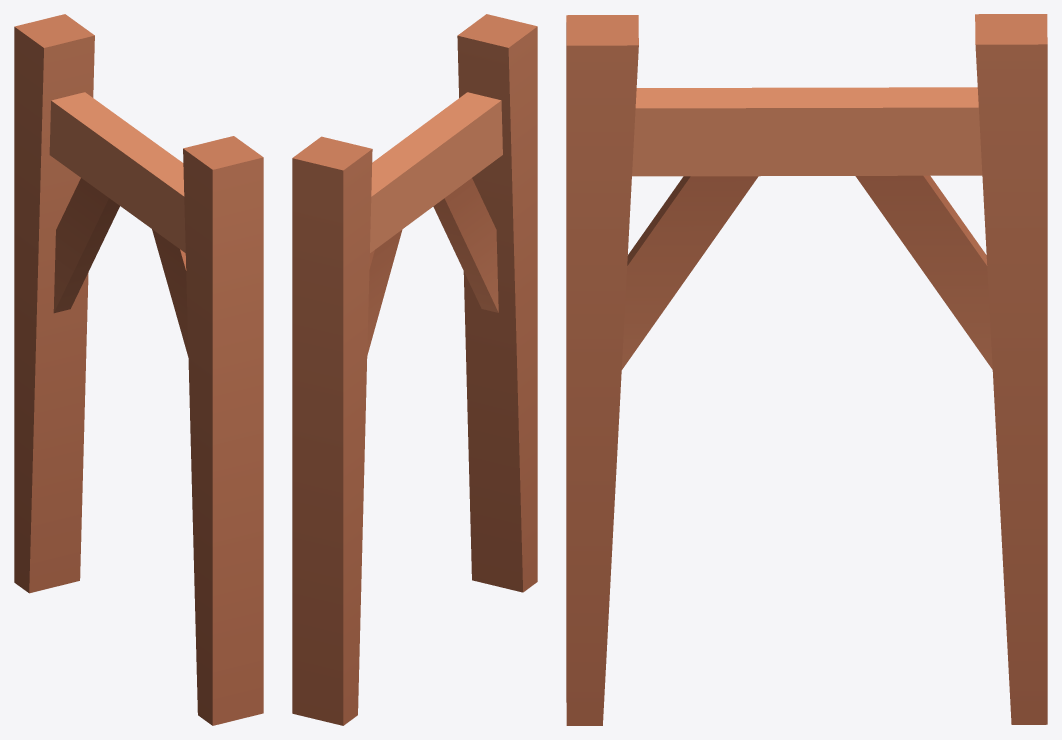
Rendered from wood-support.008_lev5.glb.
The picture shows the model from 3 angles, left to right: view 1: azimuth 30°, elevation 25°; view 2: azimuth 150°, elevation 25°; view 3: azimuth 270°, elevation 25°; orthographic projection. The views are drawn at different scales.
Visible parts, largest first — view 1: wood-support.008_lev5; view 2: wood-support.008_lev5; view 3: wood-support.008_lev5.
Boxes of the visible parts, x1,y1,x2,y2 form: wood-support.008_lev5: [14, 14, 263, 725]; wood-support.008_lev5: [292, 14, 537, 725]; wood-support.008_lev5: [566, 14, 1047, 725].
Size of the model in its own units: 1.1 by 11.01 by 7.06.
1 material, 1 textured.
